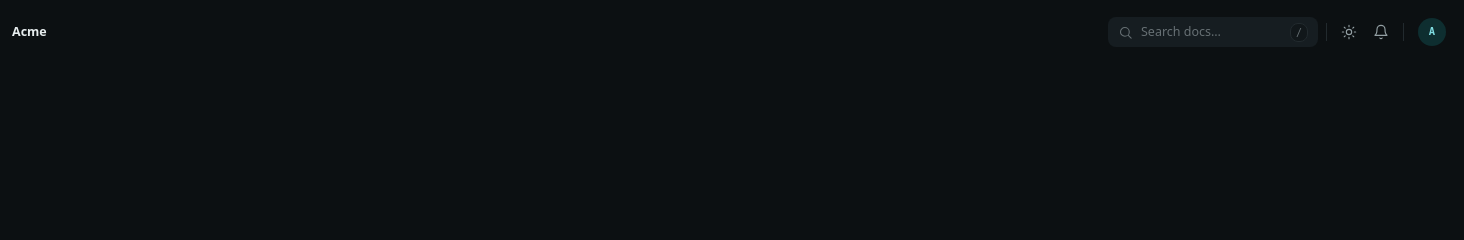
web-core S-005 — header right cluster (AS-018.T1) › AS-018.T1: opening the avatar menu reveals Settings and Sign out
The image size is (1464, 240).
expect the navigation bar with test id "header-breadcrumb" is shown: met, box x1=12 y1=23 x2=47 y2=40
Click the button with test id "user-menu-trigger": (1432, 32) x1=1412 y1=12 x2=1452 y2=52
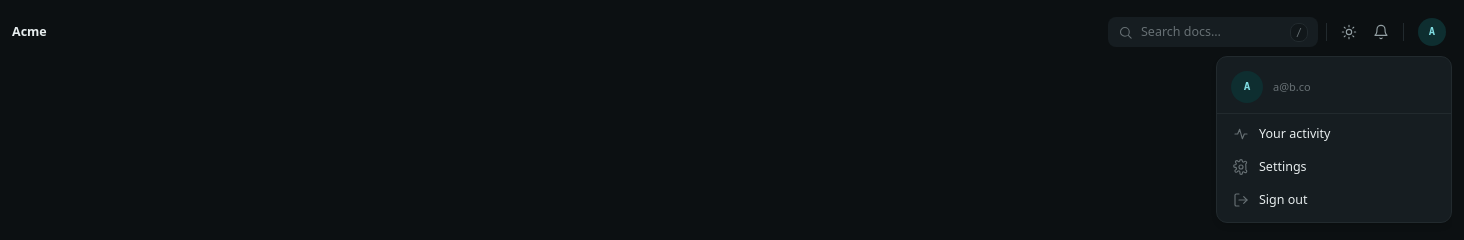
expect the button "Settings" is shown: met, box x1=1223 y1=151 x2=1445 y2=184
expect the button "Sign out" is shown: met, box x1=1223 y1=184 x2=1445 y2=216
